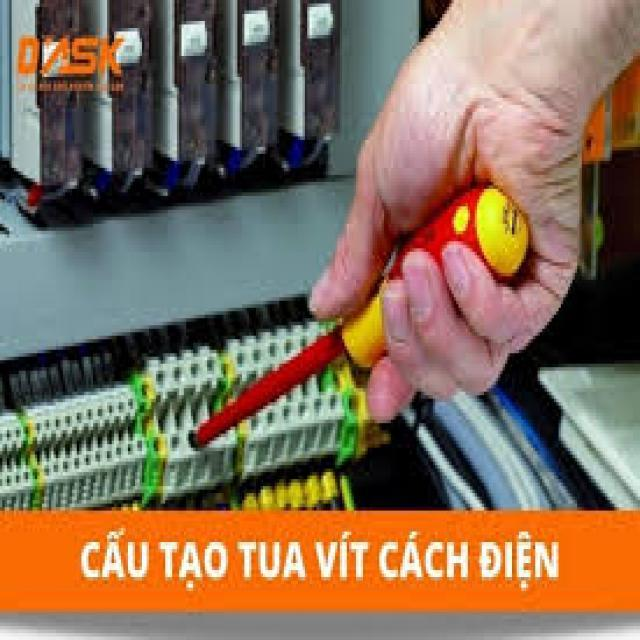screwdriver: (189, 180, 536, 457)
